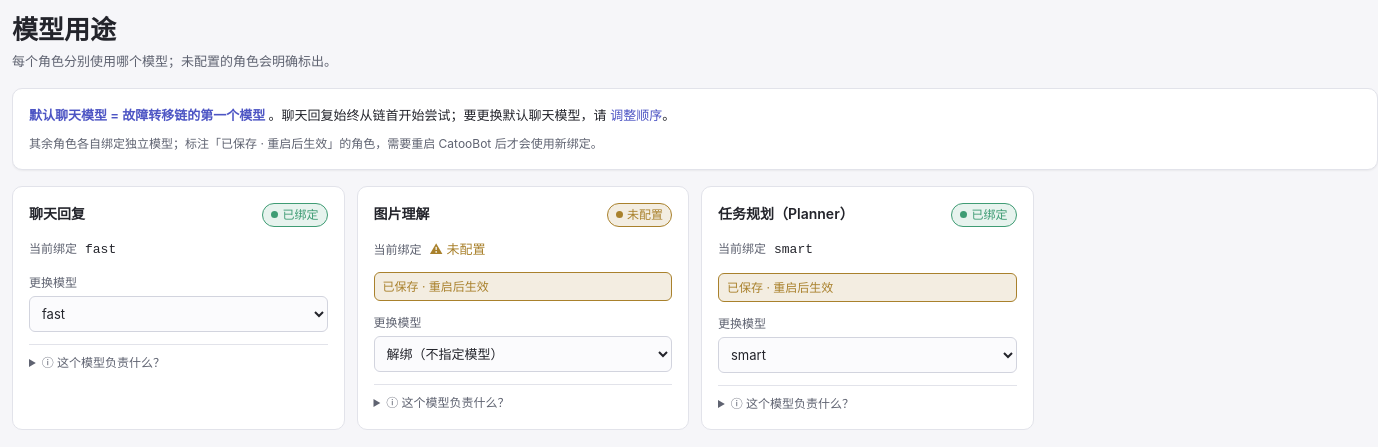
Test: AiRoles › toasts 已保存 and shows ● 已生效 for hot roles
The width and height of the screenshot is (1378, 447).
Select "smart" in the dropdown with test id "role-select" below "fast" at coordinates (178, 314), box x1=29 y1=296 x2=328 y2=332
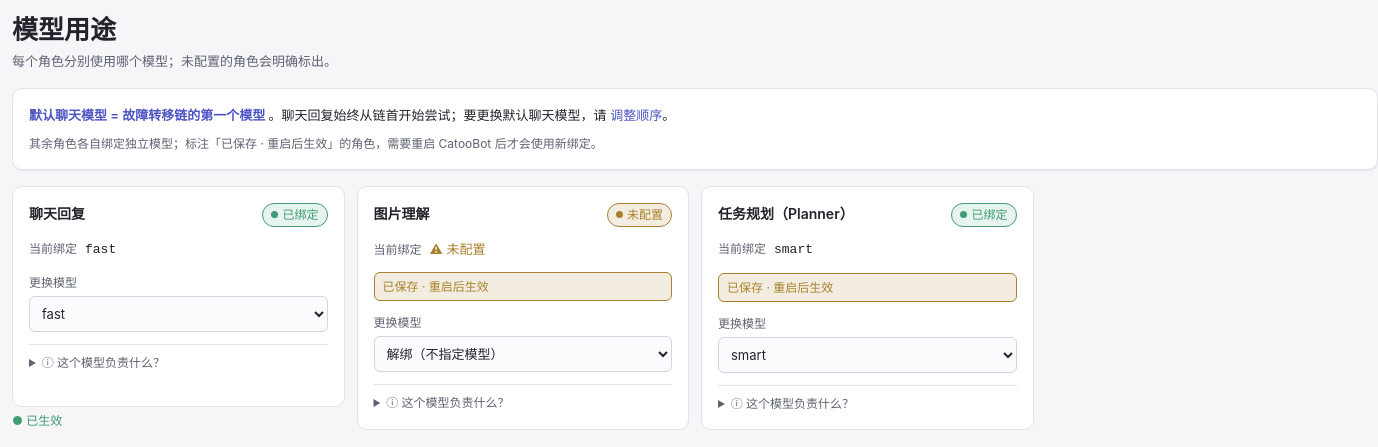
Now the message with test id "roles-applied" reads "● 已生效", box x1=12 y1=413 x2=62 y2=428
